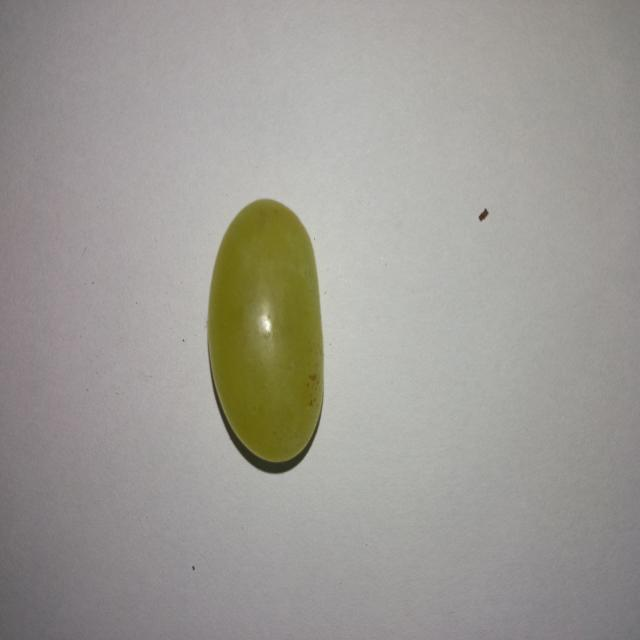fresh_grape: (206, 198, 324, 464)
